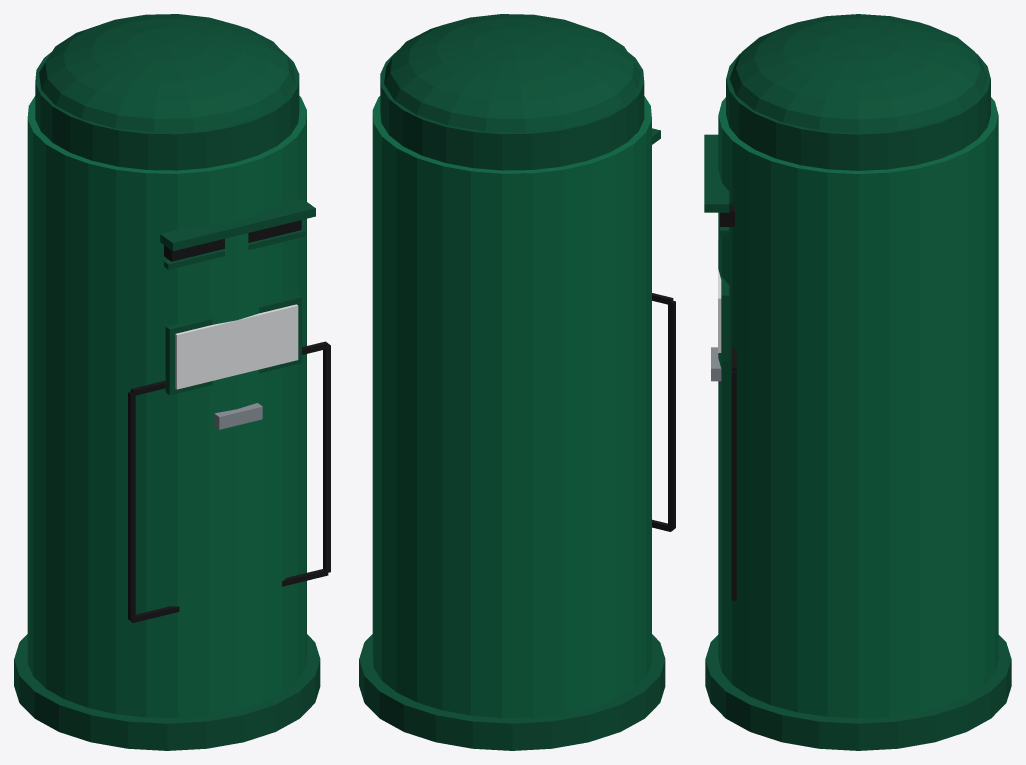
Rendered from mailbox.glb.
3 renders of one model, left to right at view 1: azimuth 30°, elevation 25°; view 2: azimuth 150°, elevation 25°; view 3: azimuth 270°, elevation 25°, orthographic.
Parts seen in each view (by area): view 1: Mailbox; view 2: Mailbox; view 3: Mailbox.
Part boxes in pixels (left/top/right/bottom): Mailbox: left=14, top=14, right=330, bottom=750; Mailbox: left=359, top=14, right=675, bottom=750; Mailbox: left=704, top=14, right=1011, bottom=750.
Size of the model in its own units: 0.0612 by 0.1417 by 0.0614.
